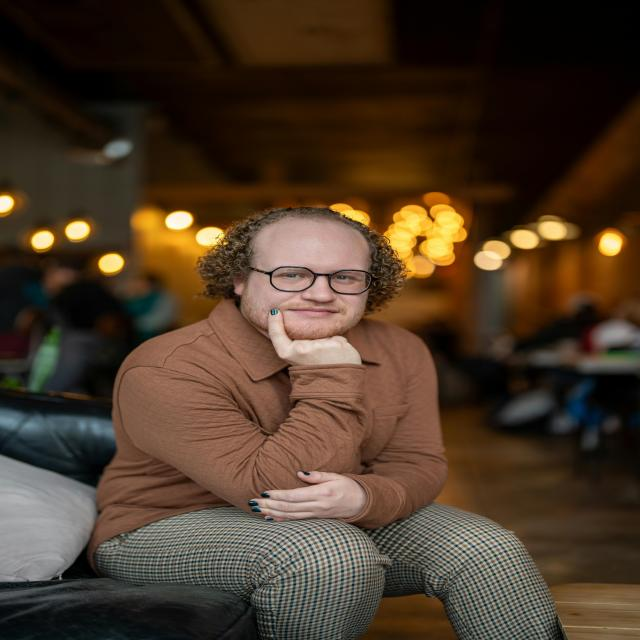sit: (86, 208, 570, 622)
